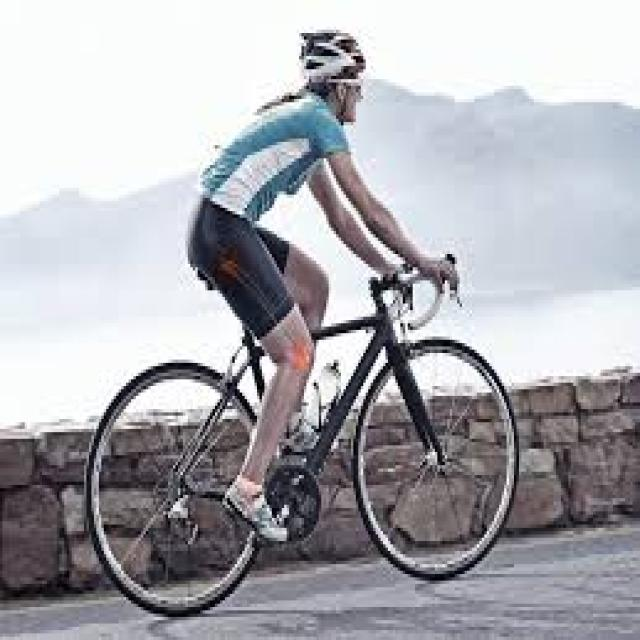sit: (174, 36, 380, 558)
